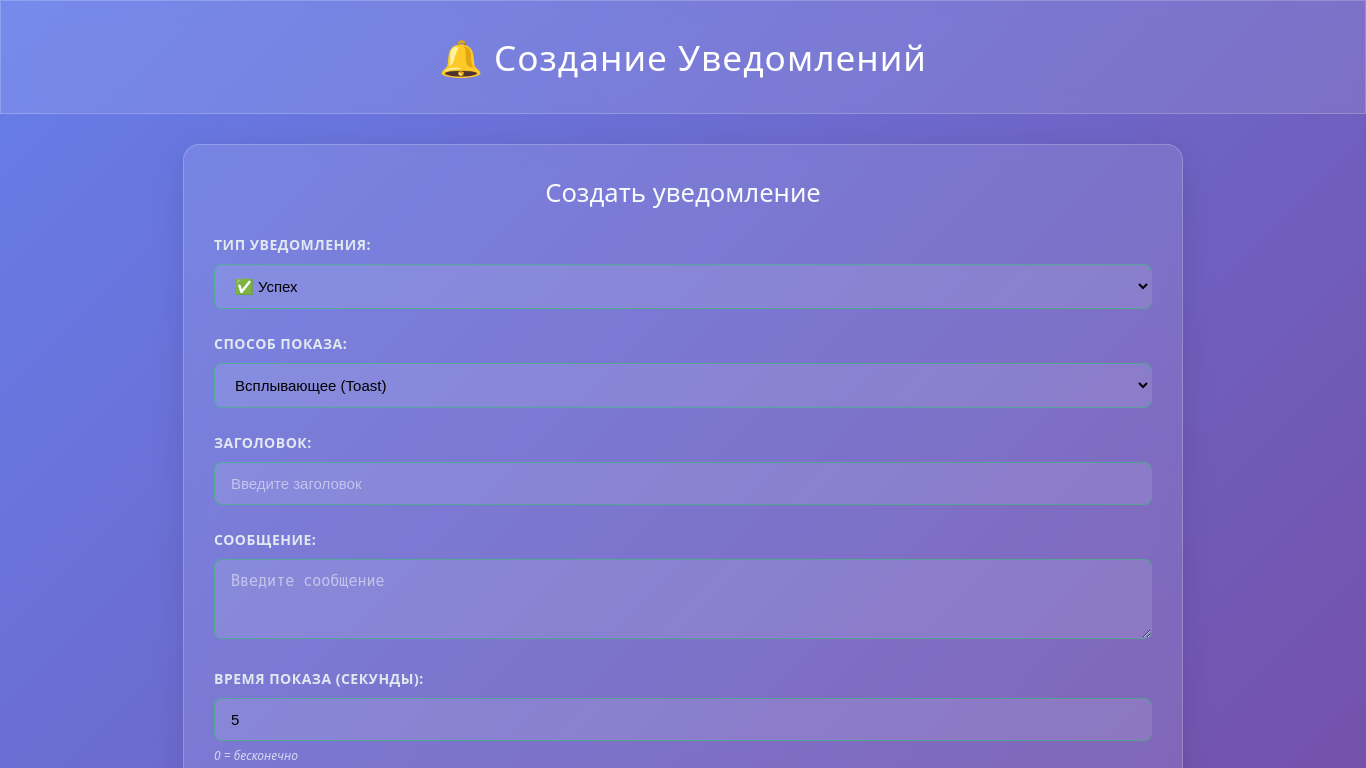
Test case: Система Уведомлений - E2E Тесты › Toast уведомления - базовые › должен показывать success toast уведомление
Select "✅ Успех" in the dropdown with test id "type-select" at (683, 287), box [214,264,1152,309]
Type "Успех!" into the field with test id "title-input" at (683, 484), box [214,462,1152,505]
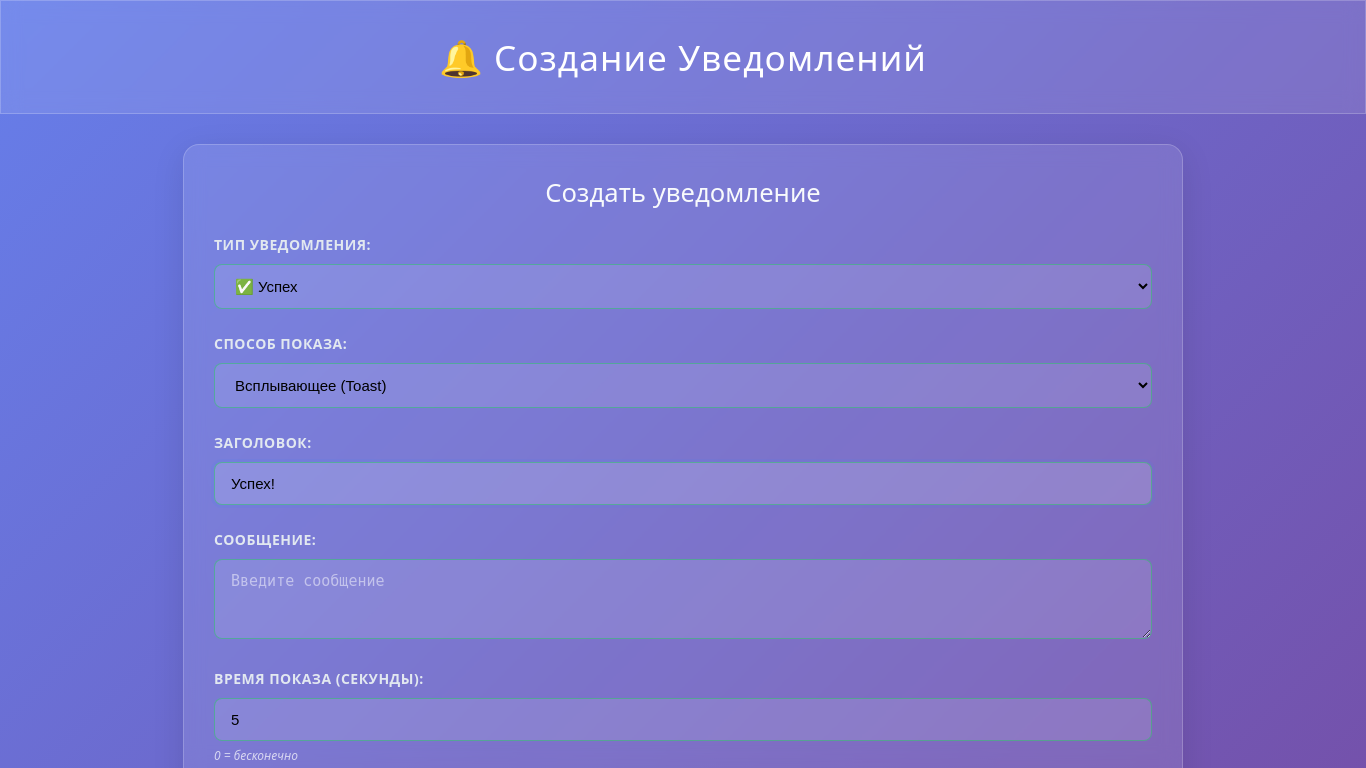
Type "Операция завершена" into the text box with test id "message-textarea" at (683, 599), box [214,559,1152,639]
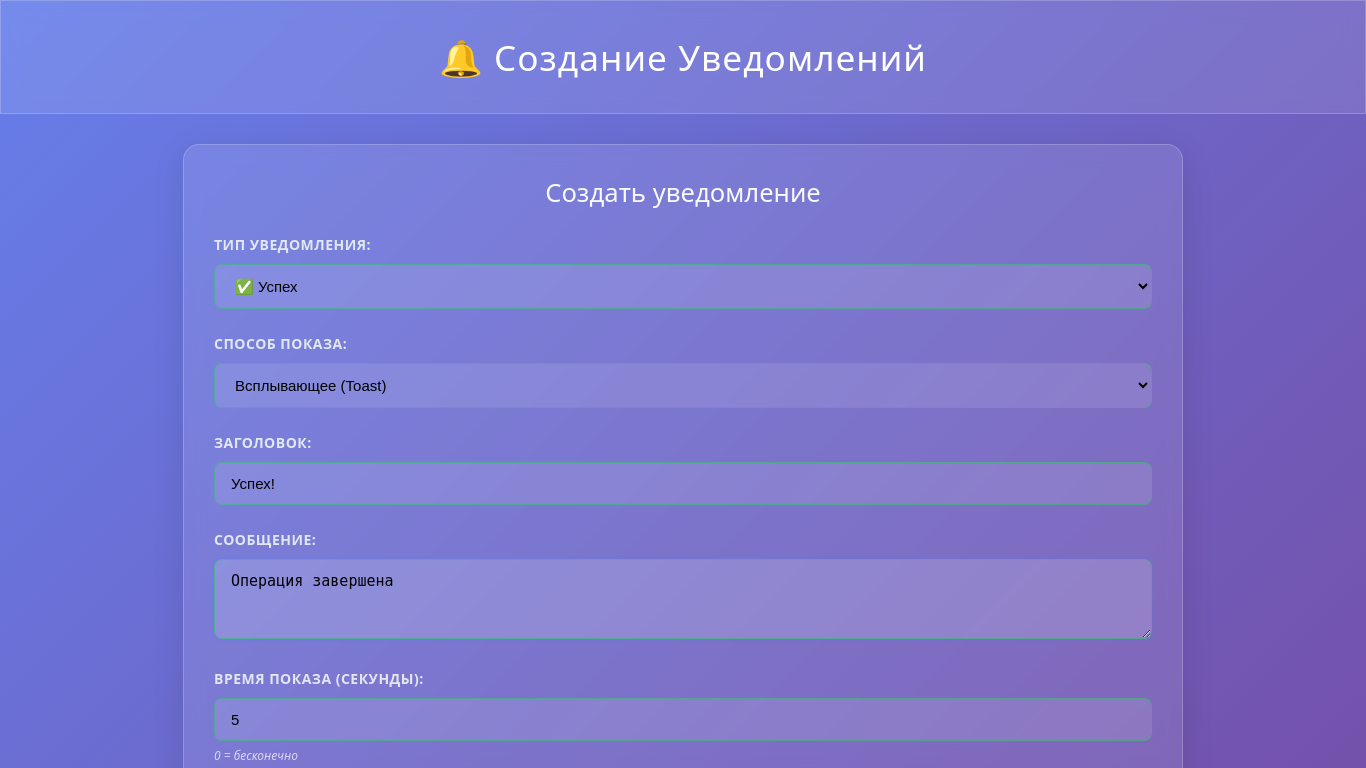
Scroll
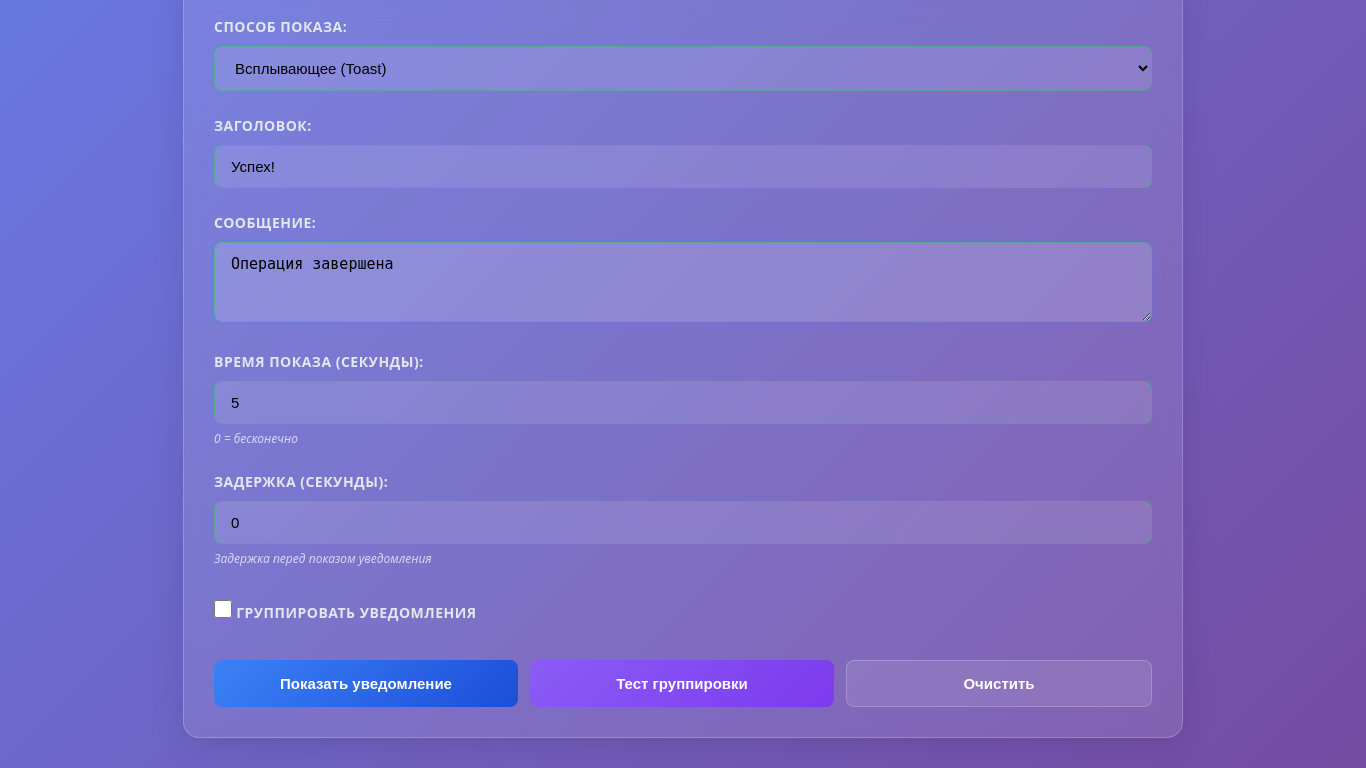
Click the button with test id "submit-button" at (366, 684), box [214,660,518,707]
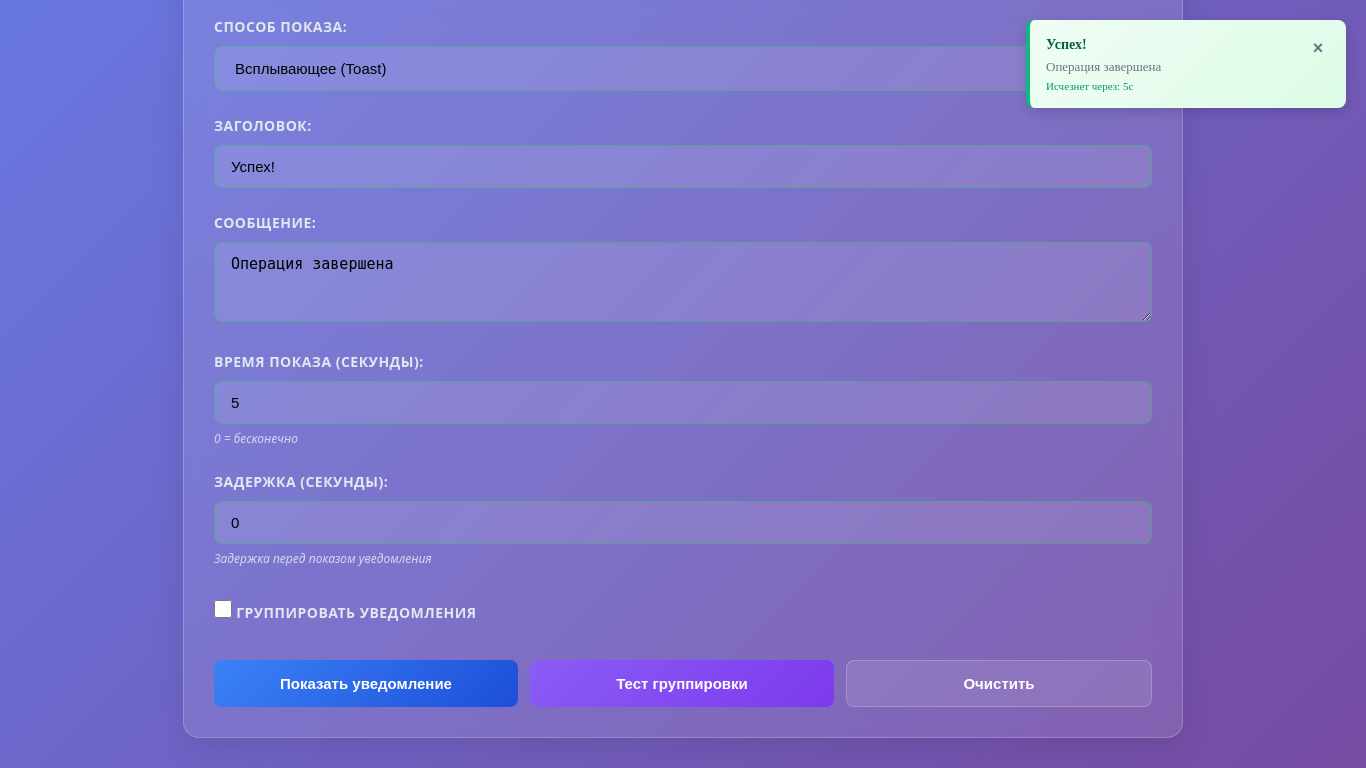
Now the element with test id "toast-notification-item" is shown, box [1026,20,1346,108]
Now the text with test id "notification-title" reads "Успех!", box [1046,37,1087,52]
